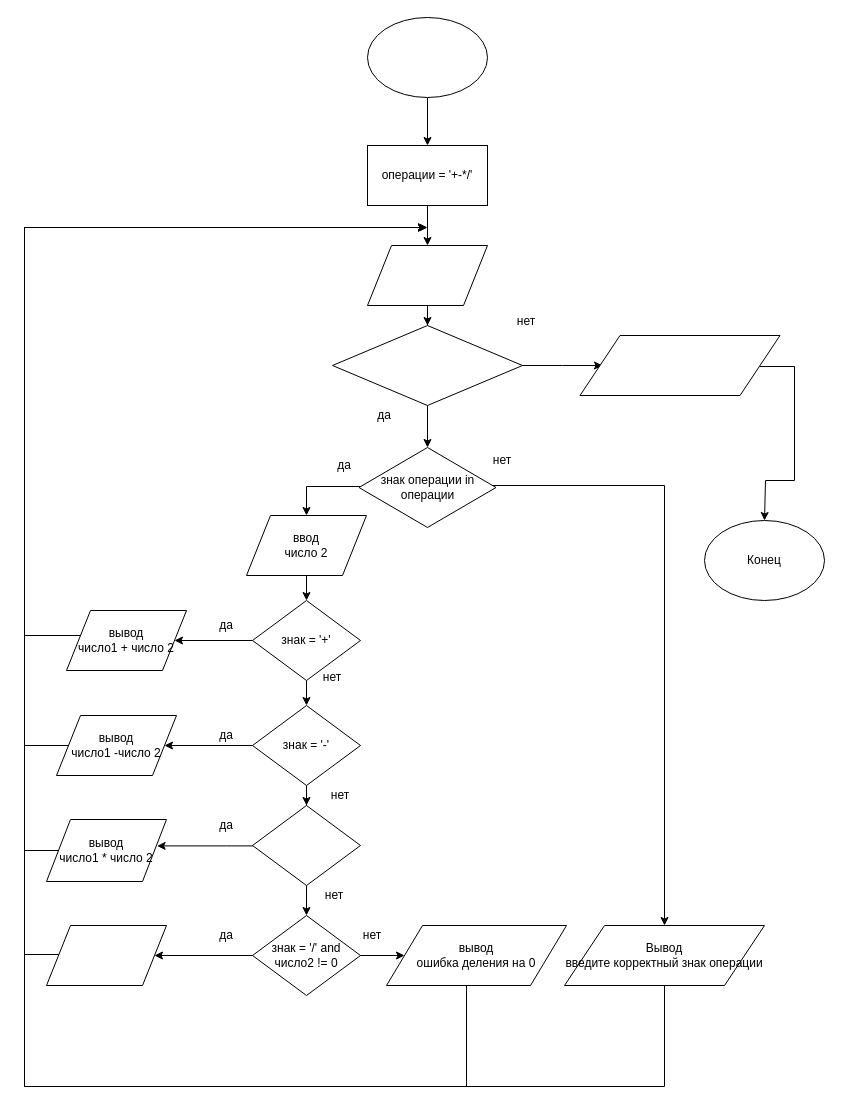
This 842x1112 diagram has some shape labels left out. Each missing label, with the box of its shape:
ввод число 1 знак операции: (366, 244, 488, 306)
Вывод вы завершили программу: (579, 334, 780, 396)
вывод число1 / число 2: (46, 924, 166, 986)
знак = '*': (252, 804, 360, 886)
знак операции != 0: (332, 324, 522, 406)
Начало: (366, 16, 488, 98)
